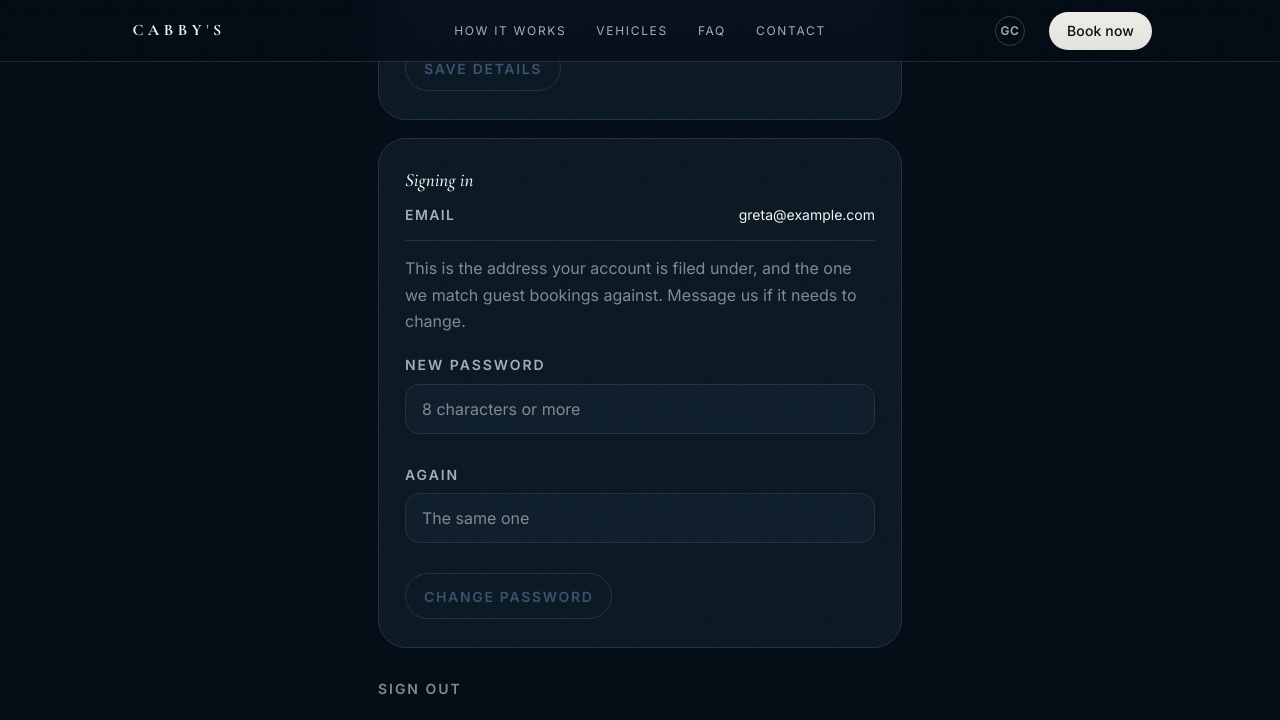
Profile › will not change a password to one that was typed twice differently
(page scrolled)
Type "longenough1" into the password field labelled "New password" at (640, 409), box [405,384,875,434]
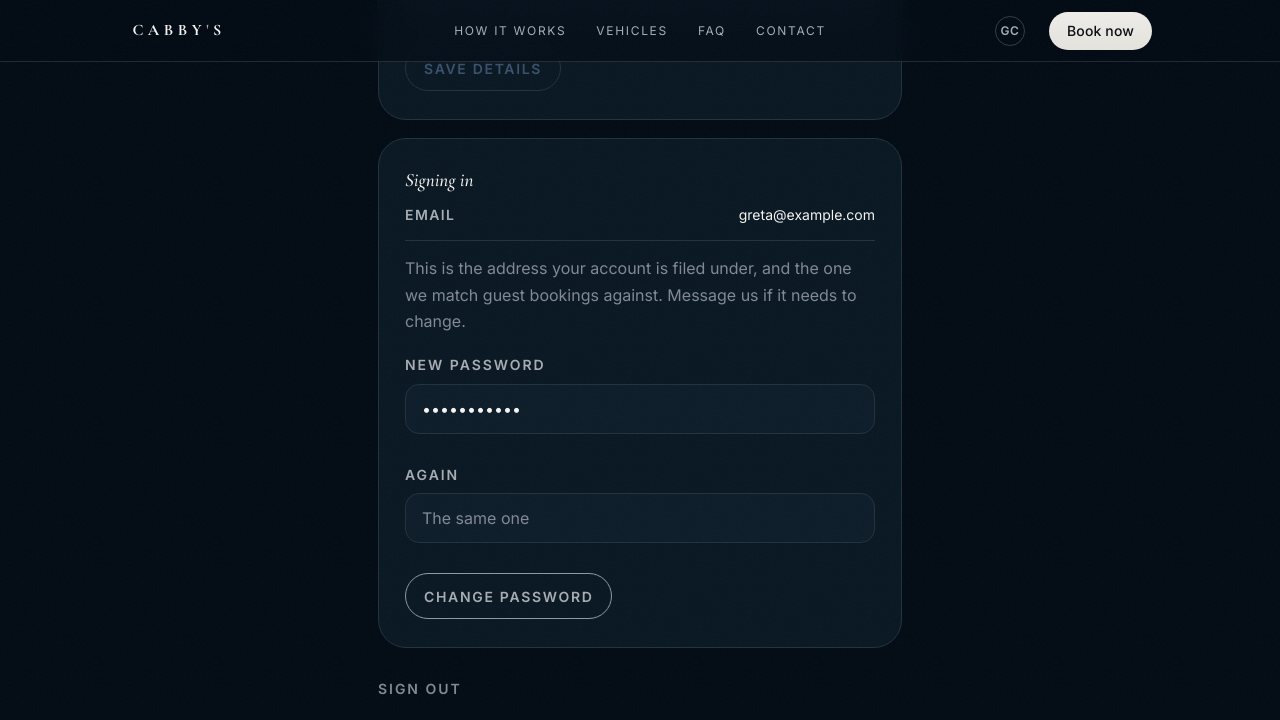
Type "longenough2" into the password field labelled "Again" at (640, 518), box [405,493,875,543]
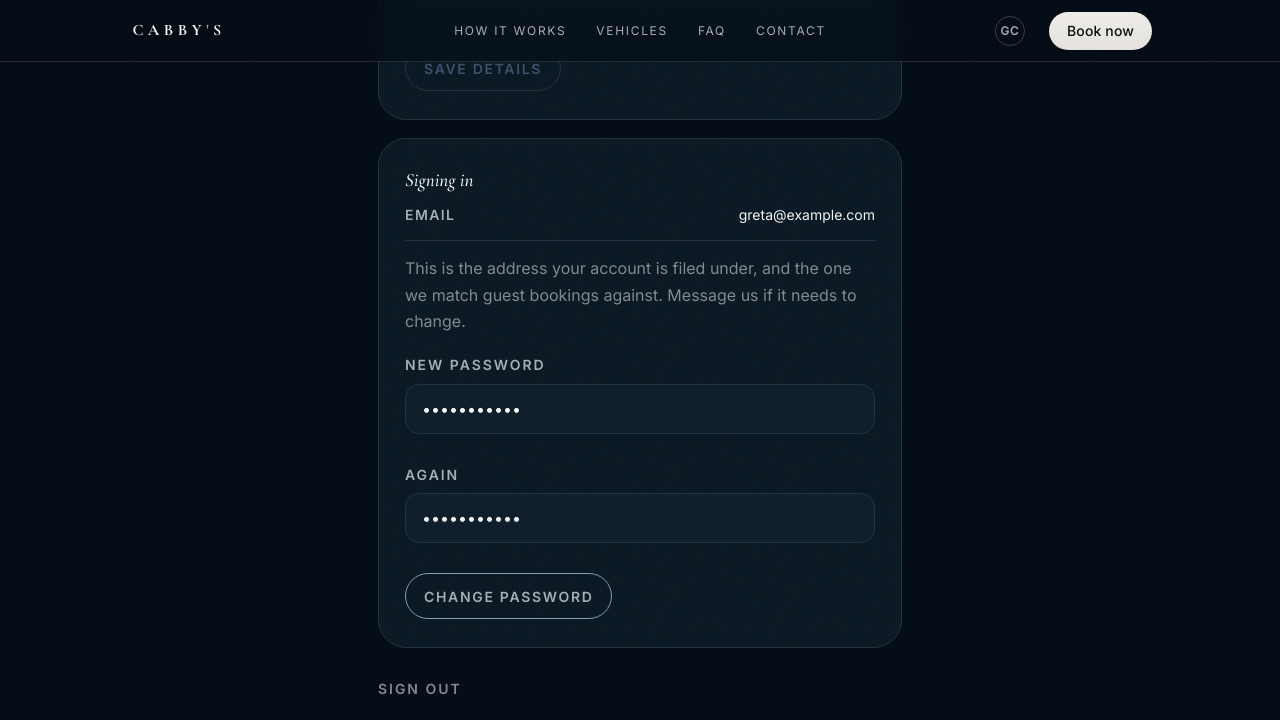
Click the button "Change password" at (509, 596), box [405,573,612,619]
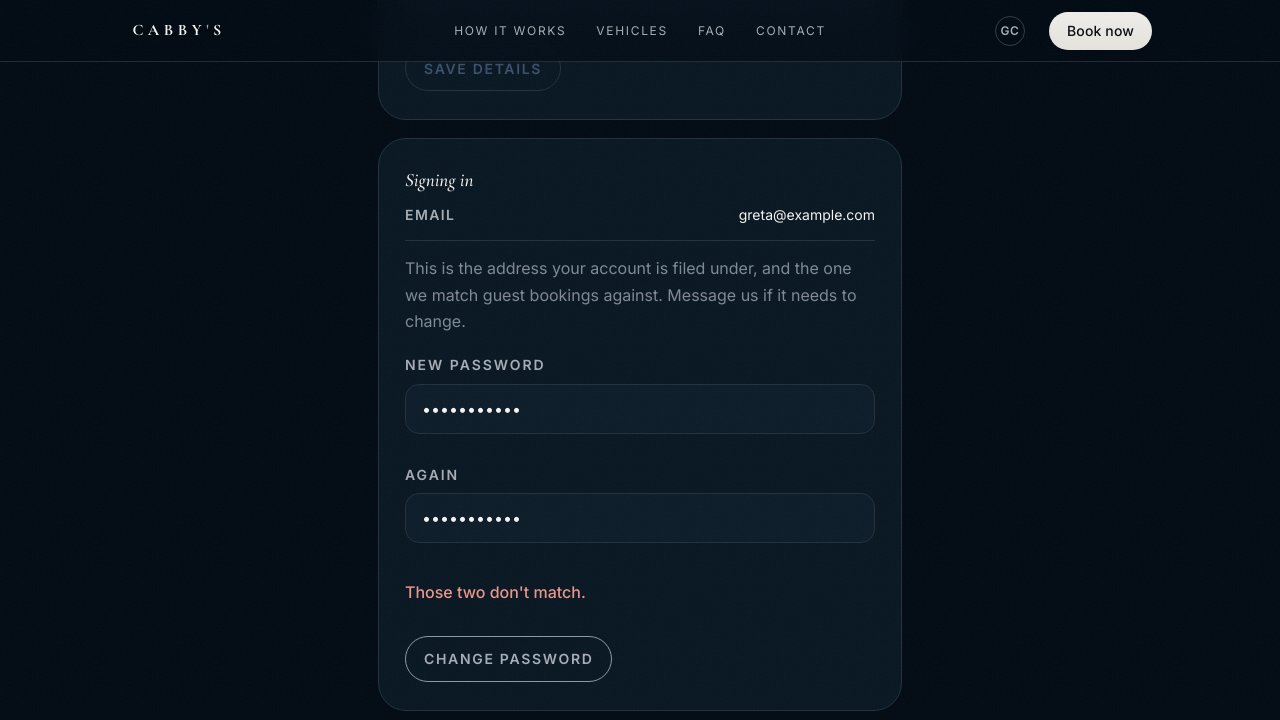
Check: the message shows "don't match", box [405,582,586,602]
